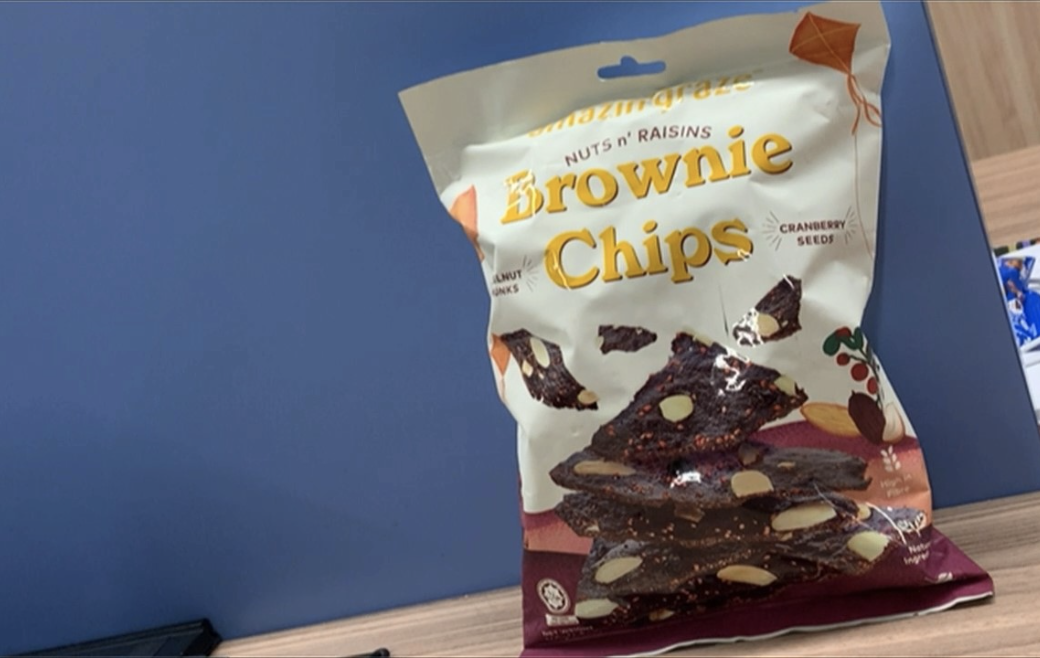crackers_150g: (526, 102, 864, 623)
